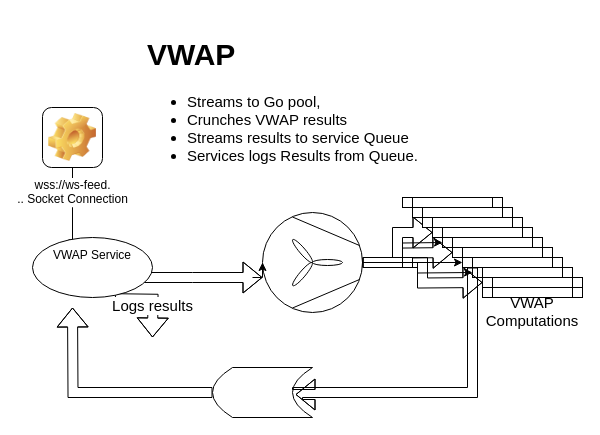
Some shapes in this 600 by 435 pixel diagram are drawn without their labels. The centre of each missing label's shape, as x and y in pixels:
Pool of Worker Go Routines: the point at 312,262
Results Queue: the point at 262,392
